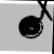not correct: (17, 1, 54, 40)
